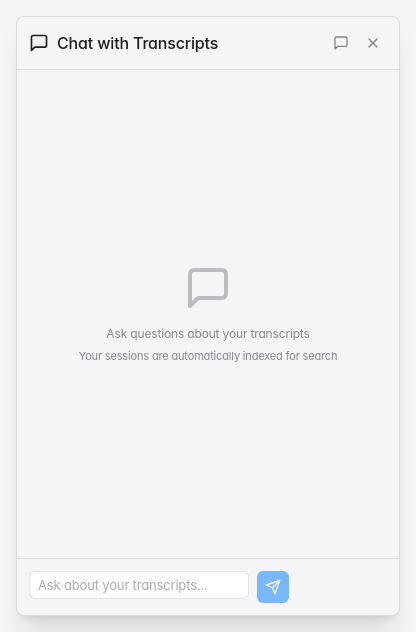
ChatPanel › Conversations List › should display conversation list
The image size is (416, 632).
Click the button named "Conversations".
click(341, 43)  # box [327,29,355,57]
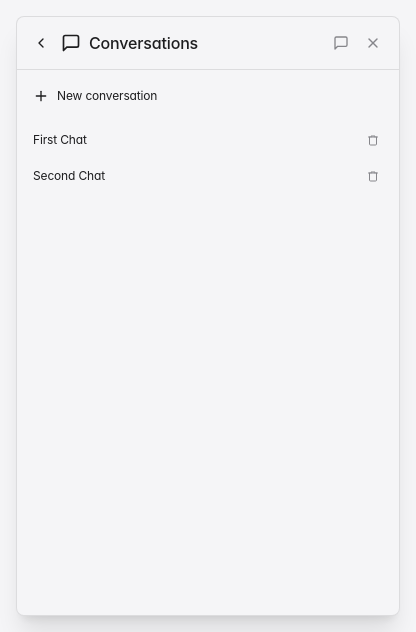
Now the text "First Chat" is shown, box [33,132,87,147]
Now the text "Second Chat" is shown, box [33,168,105,183]
